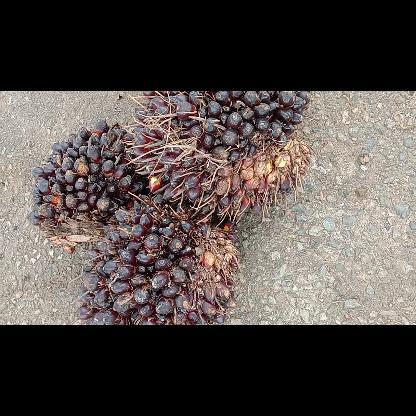TBS mentah: (130, 92, 310, 220), (76, 196, 236, 324), (26, 120, 146, 250)
